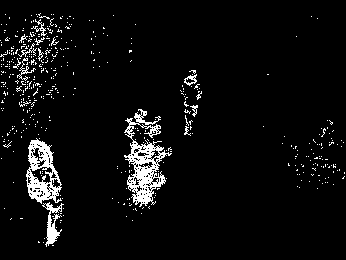person: (25, 140, 68, 245), (180, 67, 201, 138)
